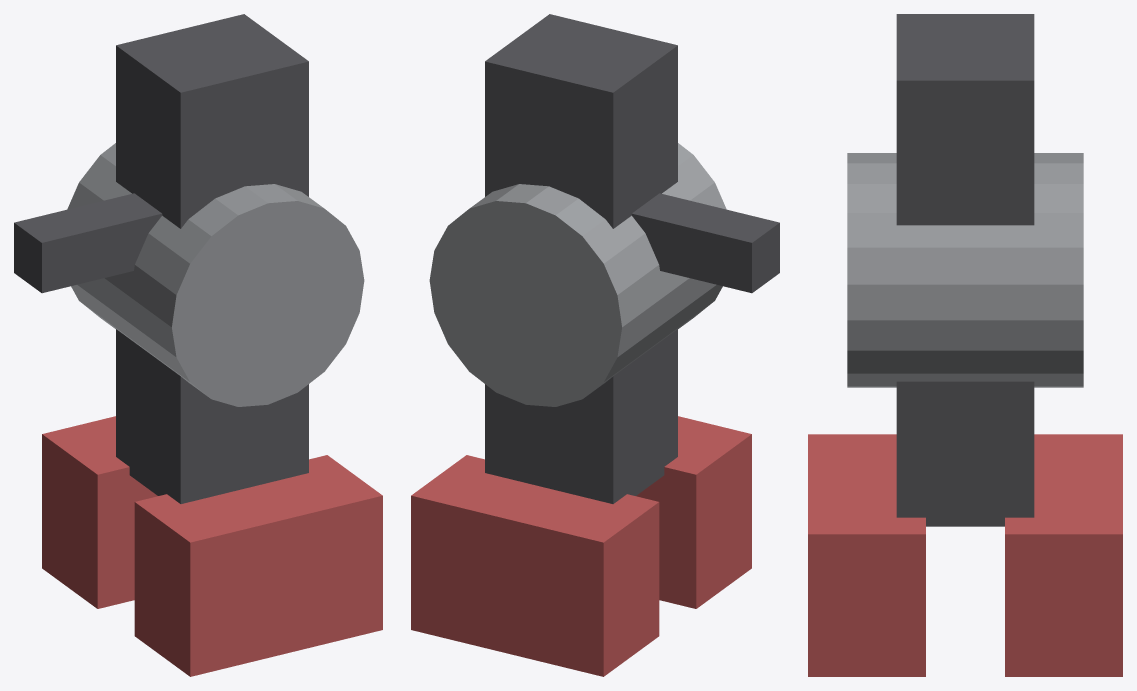
The model's file is racecar_hub.glb.
3 views of the same model, side by side, from view 1: azimuth 30°, elevation 25°; view 2: azimuth 150°, elevation 25°; view 3: azimuth 270°, elevation 25° (orthographic). The views are drawn at different scales.
Visible parts, largest first — view 1: part3, part0, part2, part1, part4; view 2: part3, part0, part1, part2, part4; view 3: part3, part0, part1, part2.
Boxes of the visible parts, bbox=[...] form: part3: bbox=[116, 14, 308, 503]; part0: bbox=[67, 143, 364, 406]; part2: bbox=[134, 455, 382, 676]; part1: bbox=[42, 416, 157, 608]; part4: bbox=[14, 193, 162, 293]; part3: bbox=[485, 14, 677, 503]; part0: bbox=[429, 143, 726, 406]; part1: bbox=[411, 455, 659, 676]; part2: bbox=[636, 416, 751, 608]; part4: bbox=[631, 193, 779, 293]; part3: bbox=[896, 14, 1034, 526]; part0: bbox=[847, 153, 1083, 387]; part1: bbox=[1005, 434, 1122, 676]; part2: bbox=[808, 434, 925, 676].
Size of the model in its own units: 0.175 by 0.325 by 0.16.
